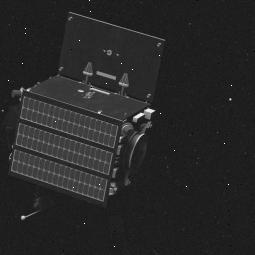proba_2: (13, 7, 168, 226)
